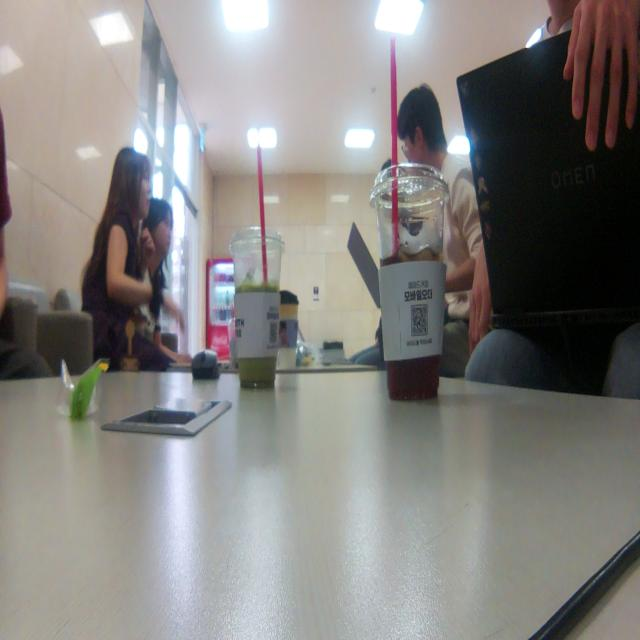target: (117, 314, 143, 371)
